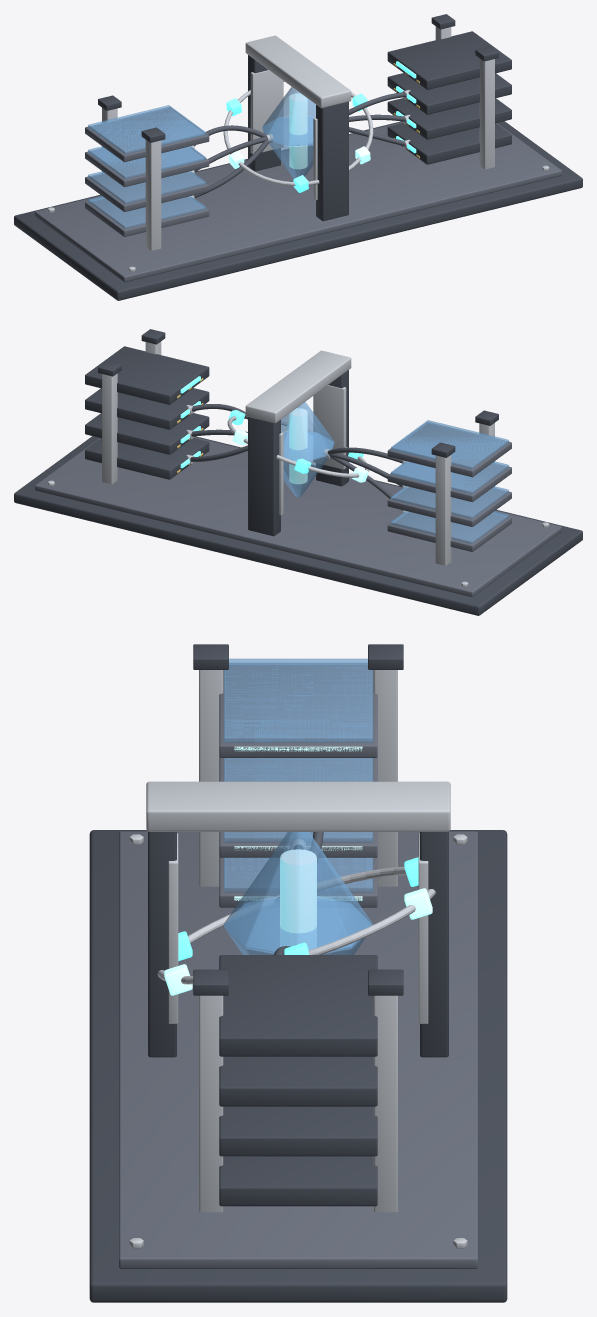
Rendered from blockast-core.glb.
3 renders of one model, top to bottom at view 1: azimuth 30°, elevation 25°; view 2: azimuth 150°, elevation 25°; view 3: azimuth 270°, elevation 25°, orthographic. The views are drawn at different scales.
Parts seen in each view (by area): view 1: AST_DeckTop, AST_DeckBase, Cartridge_3, BridgePillar_-0.84, InputBlade_3, BridgeCrown, InputGlass_3, InputBlade_0, InputBlade_1, Cartridge_2, InputBlade_2, Cartridge_1 (+14 smaller); view 2: AST_DeckTop, AST_DeckBase, Cartridge_3, BridgePillar_0.84, InputBlade_3, BridgeCrown, InputGlass_3, InputBlade_0, InputBlade_1, InputBlade_2, Cartridge_0, Cartridge_2 (+14 smaller); view 3: AST_DeckTop, AST_DeckBase, Cartridge_3, BridgeCrown, InputBlade_3, InputGlass_3, Cone, Cartridge_0, Cartridge_1, Cartridge_2, BridgePillar_0.84, BridgePillar_-0.84 (+19 smaller).
Boxes of the visible parts, box(x1,y1,x2,y2) form: AST_DeckTop: box(35, 122, 561, 282); AST_DeckBase: box(14, 121, 582, 300); Cartridge_3: box(387, 31, 511, 89); BridgePillar_-0.84: box(316, 101, 348, 221); InputBlade_3: box(85, 107, 209, 162); BridgeCrown: box(245, 35, 351, 108); InputGlass_3: box(88, 105, 205, 153); InputBlade_0: box(85, 197, 209, 236); InputBlade_1: box(85, 172, 209, 211); Cartridge_2: box(387, 73, 511, 114); InputBlade_2: box(85, 147, 209, 187); Cartridge_1: box(387, 98, 511, 139); AST_DeckTop: box(35, 437, 561, 597); AST_DeckBase: box(14, 436, 582, 615); Cartridge_3: box(85, 346, 209, 404); BridgePillar_0.84: box(248, 416, 280, 536); InputBlade_3: box(387, 422, 511, 477); BridgeCrown: box(245, 350, 351, 423); InputGlass_3: box(391, 420, 508, 469); InputBlade_0: box(387, 512, 511, 551); InputBlade_1: box(387, 487, 511, 526); InputBlade_2: box(387, 462, 511, 502); Cartridge_0: box(85, 438, 209, 479); Cartridge_2: box(85, 388, 209, 429); AST_DeckTop: box(119, 831, 477, 1268); AST_DeckBase: box(89, 830, 507, 1302); Cartridge_3: box(219, 955, 377, 1056); BridgeCrown: box(146, 781, 450, 831); InputBlade_3: box(219, 663, 377, 757); InputGlass_3: box(224, 658, 372, 742); Cone: box(223, 832, 373, 952); Cartridge_0: box(219, 1156, 377, 1206); Cartridge_1: box(219, 1106, 377, 1156); Cartridge_2: box(219, 1056, 377, 1106); BridgePillar_0.84: box(420, 831, 448, 1057); BridgePillar_-0.84: box(148, 831, 176, 1057).
Size of the model in its own units: 6.65 by 1.92 by 2.58.
